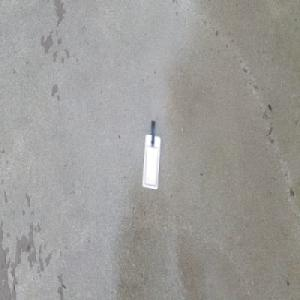LuggageTag: (140, 119, 160, 191)
